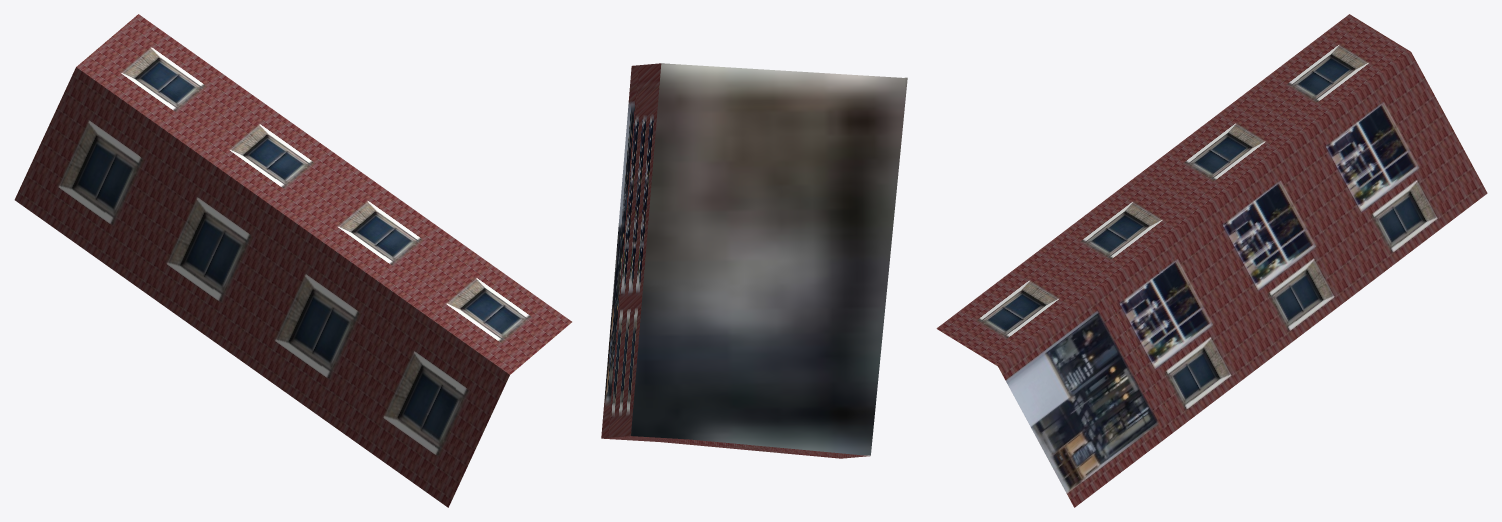
3 views of the same model, side by side, from view 1: azimuth 30°, elevation 25°; view 2: azimuth 150°, elevation 25°; view 3: azimuth 270°, elevation 25° (orthographic). The views are drawn at different scales.
Bounding box in the file's own units: 9.46 × 9.96 × 13.49.
4 materials, 4 textured.
